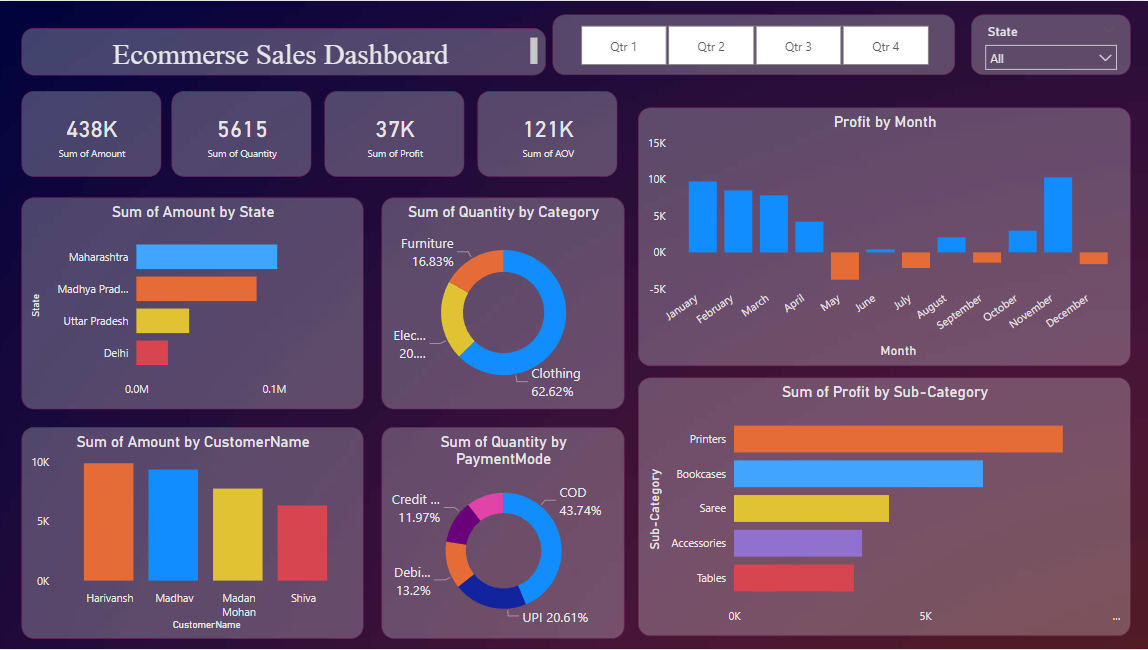

Layout of this report page (visuals, bound fields, positions):
{"tool":"powerbi","page":{"name":"Page 1","canvas":[1280,720],"ordinal":0},"visuals":[{"type":"textbox","box":[27.5,30,582.5,52.5],"z":0},{"type":"columnChart","title":"Profit by Month","fields":{"Y":["Details.Profit"],"Category":["Orders.Order Date.Variation.Date Hierarchy.Month"]},"box":[712.5,117.5,547.5,287],"z":1000},{"type":"clusteredBarChart","fields":{"Category":["Details.Sub-Category"],"Y":["Details.Profit"]},"box":[712.5,417.5,547.5,287.5],"z":2000},{"type":"donutChart","fields":{"Category":["Details.Category"],"Y":["Details.Quantity"]},"box":[427.5,217.5,270,235],"z":3000},{"type":"donutChart","fields":{"Category":["Details.PaymentMode"],"Y":["Details.Quantity"]},"box":[427.5,472.5,270,235],"z":4000},{"type":"card","fields":{"Values":["Details.Amount"]},"box":[27.8,100,155,95.6],"z":5000},{"type":"card","fields":{"Values":["Details.Quantity"]},"box":[195.6,100,155.6,95.6],"z":6000},{"type":"card","fields":{"Values":["Details.Profit"]},"box":[365.6,100,155.6,95.6],"z":7000},{"type":"card","fields":{"Values":["Details.AOV"]},"box":[534.4,100,155.6,95.6],"z":8000},{"type":"clusteredBarChart","fields":{"Category":["Orders.State"],"Y":["Details.Amount"]},"box":[27.5,217.5,380,235],"z":9000},{"type":"columnChart","fields":{"Category":["Orders.CustomerName"],"Y":["Details.Amount"]},"box":[28,473,380,235],"z":10000},{"type":"slicer","fields":{"Values":["Orders.Order Date.Variation.Date Hierarchy.Quarter"]},"box":[617.5,15,447.5,67.5],"z":11000},{"type":"slicer","fields":{"Values":["Orders.State"]},"box":[1082.5,15,177.5,67.5],"z":12000}]}

Visuals, with their boxes in screenshot pixels (x1, y1, x2, y2), scaled from the page's 1280x720 canvas onto the 1148x650 screenshot:
textbox: box(25, 27, 547, 74)
"Profit by Month" columnChart: box(639, 106, 1130, 365)
clusteredBarChart - Details.Sub-Category x Details.Profit: box(639, 377, 1130, 636)
donutChart - Details.Category x Details.Quantity: box(383, 196, 626, 409)
donutChart - Details.PaymentMode x Details.Quantity: box(383, 427, 626, 639)
card - Details.Amount: box(25, 90, 164, 177)
card - Details.Quantity: box(175, 90, 315, 177)
card - Details.Profit: box(328, 90, 467, 177)
card - Details.AOV: box(479, 90, 619, 177)
clusteredBarChart - Orders.State x Details.Amount: box(25, 196, 365, 409)
columnChart - Orders.CustomerName x Details.Amount: box(25, 427, 366, 639)
slicer - Orders.Order Date.Variation.Date Hierarchy.Quarter: box(554, 14, 955, 74)
slicer - Orders.State: box(971, 14, 1130, 74)
